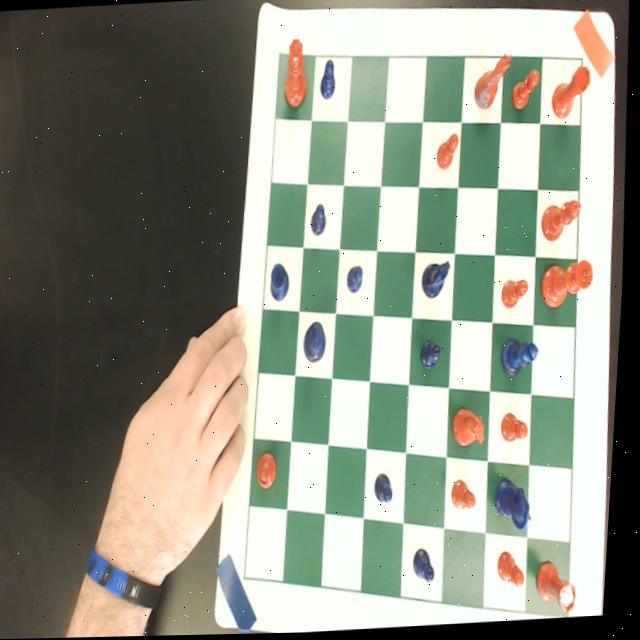B: (503, 339, 544, 381)
K: (306, 321, 332, 365)
N: (498, 479, 540, 534), (424, 262, 454, 300)
P: (419, 548, 443, 586), (319, 59, 338, 102), (378, 473, 401, 507), (424, 340, 447, 373), (311, 203, 330, 238), (348, 265, 368, 295)
R: (271, 265, 294, 303)
b: (542, 200, 585, 246), (260, 451, 284, 494)
k: (542, 262, 598, 313)
n: (472, 53, 515, 115), (456, 408, 493, 451)
p: (511, 71, 543, 114), (502, 552, 533, 591), (504, 413, 536, 447), (503, 278, 534, 313), (456, 480, 484, 515), (437, 134, 462, 172)
q: (283, 38, 310, 111)
r: (541, 560, 586, 620), (550, 67, 593, 122)
